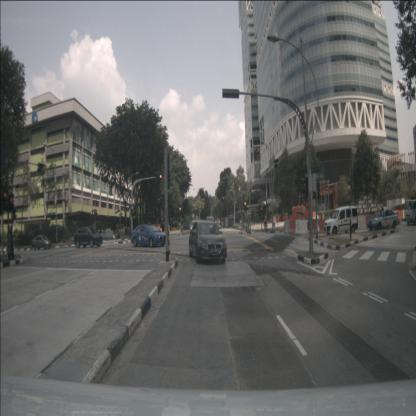human-pedestrian-adult: (9, 226, 14, 260), (264, 215, 268, 232)
movable_object-barrier: (294, 219, 309, 235), (313, 219, 328, 234), (366, 214, 378, 230), (354, 215, 366, 230), (288, 219, 296, 234), (396, 210, 404, 220), (284, 220, 290, 233)
vehicle-car: (188, 220, 226, 264), (323, 206, 358, 235), (131, 224, 166, 248), (367, 209, 398, 231), (74, 228, 103, 248), (31, 235, 52, 250), (206, 216, 214, 230), (190, 220, 198, 233), (216, 222, 221, 229)
vehicle-truck: (404, 200, 416, 225)
